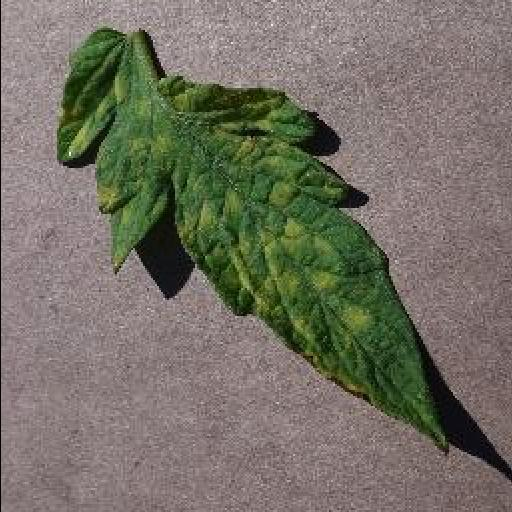disease_tomato: (54, 30, 448, 456)
